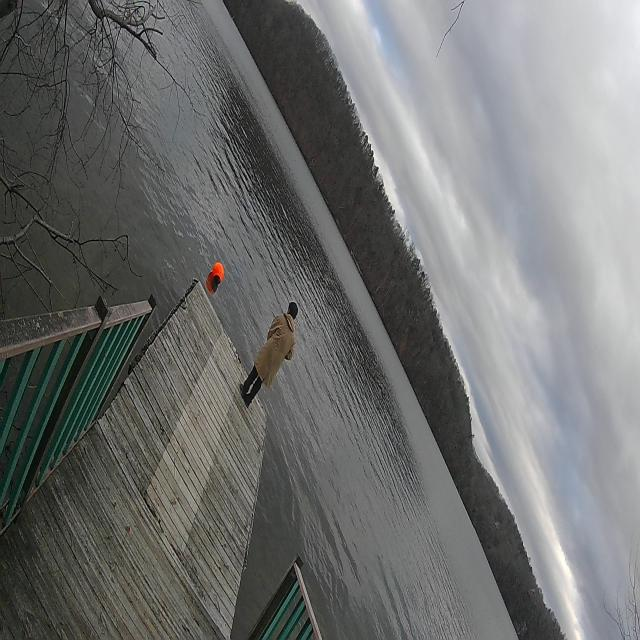Buoy: (212, 261, 224, 285)
